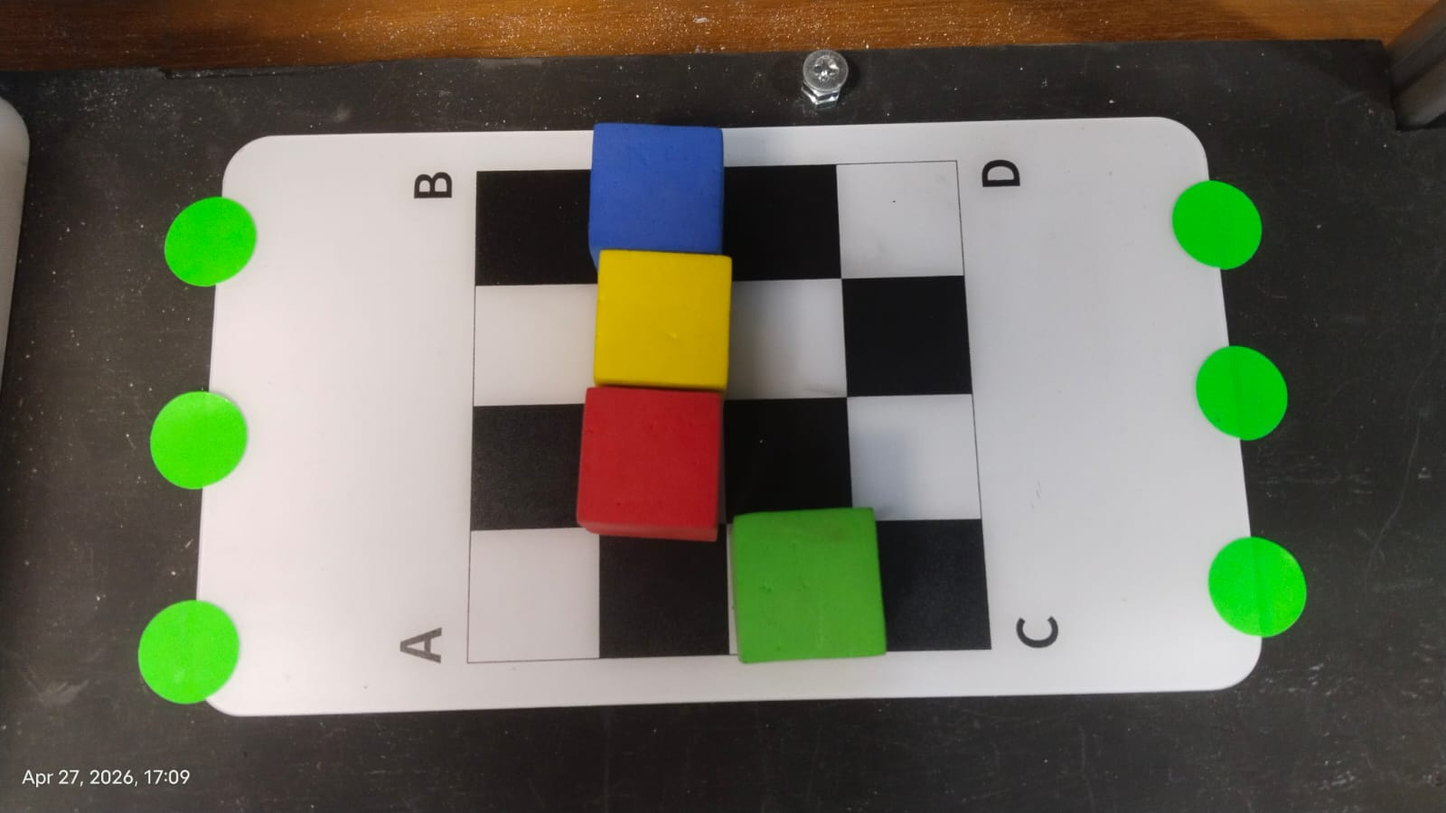blue: (584, 111, 733, 261)
green: (729, 501, 887, 668)
red: (568, 381, 731, 543)
yellow: (588, 245, 740, 394)
